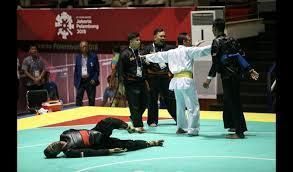Fall-Detected: (38, 108, 164, 157)
